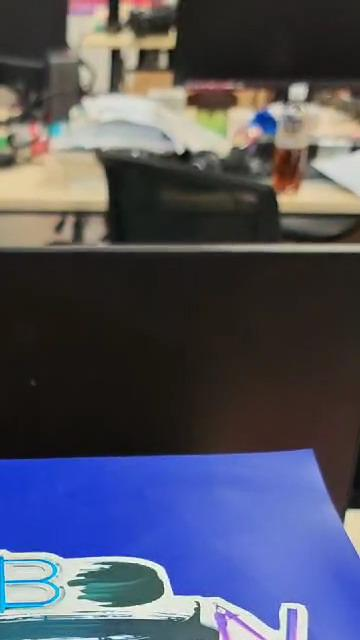B_R1: (0, 545, 326, 640)
